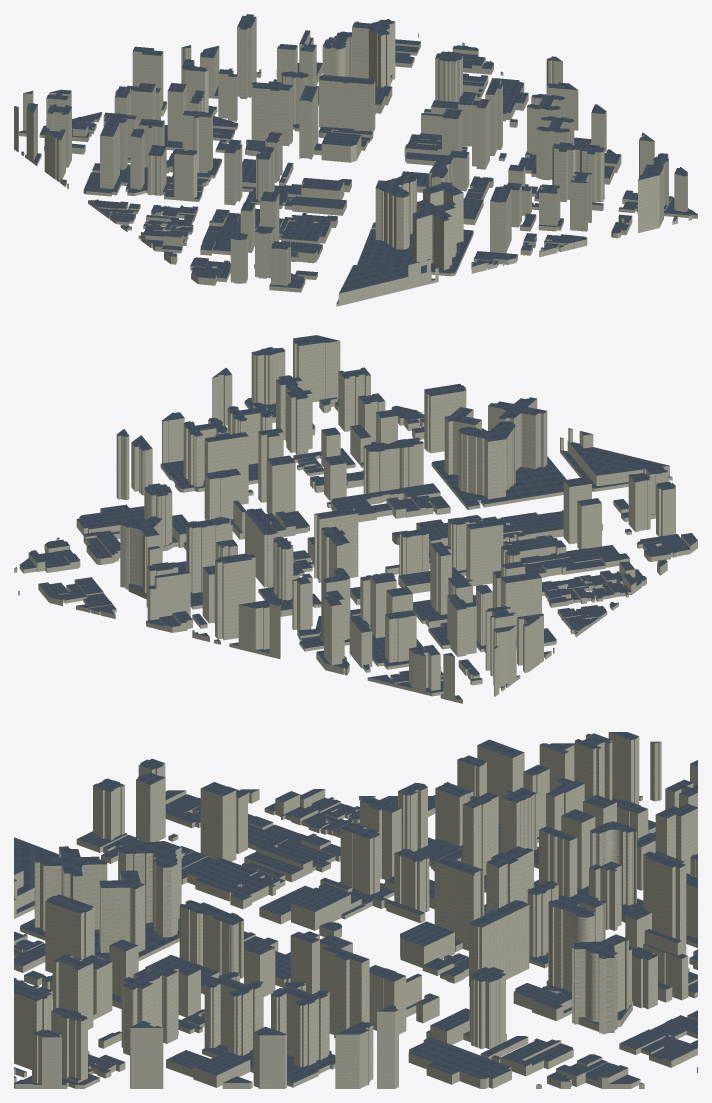
Rendered from Buldings_SPIndianopolis1.fbx.
3 views of the same model, one above another, from view 1: azimuth 30°, elevation 25°; view 2: azimuth 150°, elevation 25°; view 3: azimuth 270°, elevation 25° (orthographic). The views are drawn at different scales.
Parts seen in each view (by area): view 1: Edifício Q.I, element.3001, element.3171, Condomínio International Flat, Edifício Chez Vous Moema, Shopping Ibirapuera, Edifício Maison André Courreges, element.3215, Edifício Arquitetura 1267, Edifício Maison Versailles, element.6947, Edifício Pajuçara.001 (+52 smaller); view 2: element.3171, Edifício Torres do Ibirapuera, element.6947, element.3001, element.3215, Edifício Arquitetura 1267, Edifício Maison André Courreges, Condomínio International Flat, Shopping Ibirapuera, element.6945, Edifício International Duplex Residence, Edifício Glam (+55 smaller); view 3: Condomínio International Flat, Edifício Maison Versailles, element.3171, Edifício Torres do Ibirapuera, Edifício Maison Lovre, Edifício Q.I, element.3001, Edifício Maison André Courreges, element.6915, Edifício Montreal Offices & Services, element.6947, element.3174 (+72 smaller).
Boxes of the visible parts, x1,y1,x2,y2 form: Edifício Q.I: [319, 75, 375, 131]; element.3001: [412, 199, 456, 269]; element.3171: [375, 175, 416, 249]; Condomínio International Flat: [352, 19, 395, 87]; Edifício Chez Vous Moema: [251, 82, 292, 146]; Shopping Ibirapuera: [338, 265, 431, 305]; Edifício Maison André Courreges: [552, 142, 604, 202]; element.3215: [357, 222, 473, 276]; Edifício Arquitetura 1267: [638, 164, 663, 233]; Edifício Maison Versailles: [536, 116, 574, 180]; element.6947: [237, 14, 256, 99]; Edifício Pajuçara.001: [182, 111, 212, 173]; element.3171: [458, 421, 515, 499]; Edifício Torres do Ibirapuera: [363, 437, 423, 493]; element.6947: [215, 553, 255, 640]; element.3001: [488, 397, 547, 470]; element.3215: [431, 456, 566, 509]; Edifício Arquitetura 1267: [293, 335, 340, 402]; Edifício Maison André Courreges: [276, 375, 312, 454]; Condomínio International Flat: [120, 516, 162, 592]; Shopping Ibirapuera: [567, 441, 669, 486]; element.6945: [466, 520, 503, 586]; Edifício International Duplex Residence: [186, 517, 230, 593]; Edifício Glam: [424, 384, 466, 453]; Condomínio International Flat: [572, 934, 628, 1034]; Edifício Maison Versailles: [204, 971, 263, 1055]; element.3171: [118, 841, 181, 937]; Edifício Torres do Ibirapuera: [179, 900, 243, 978]; Edifício Maison Lovre: [271, 981, 329, 1066]; Edifício Q.I: [469, 900, 529, 986]; element.3001: [34, 846, 107, 931]; Edifício Maison André Courreges: [121, 964, 178, 1055]; element.6915: [321, 945, 369, 1037]; Edifício Montreal Offices & Services: [434, 856, 484, 950]; element.6947: [643, 851, 686, 954]; element.3174: [99, 870, 145, 952].
Size of the model in its own units: 50000 by 7500 by 50000.
